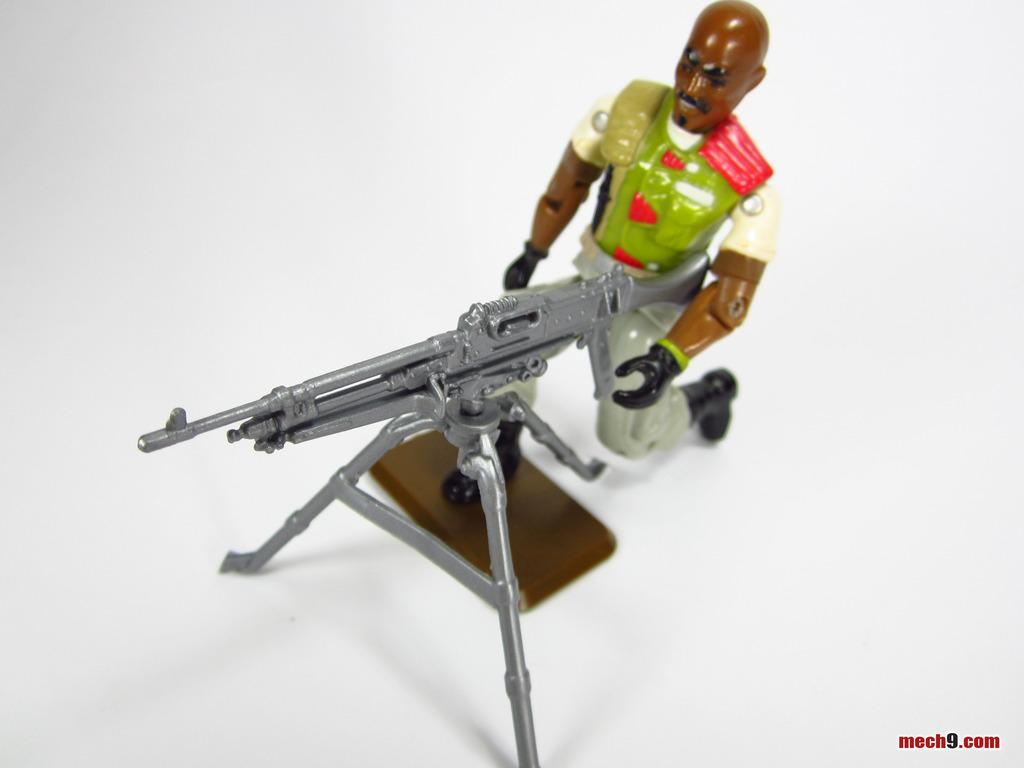Rifle: (213, 163, 731, 581)
